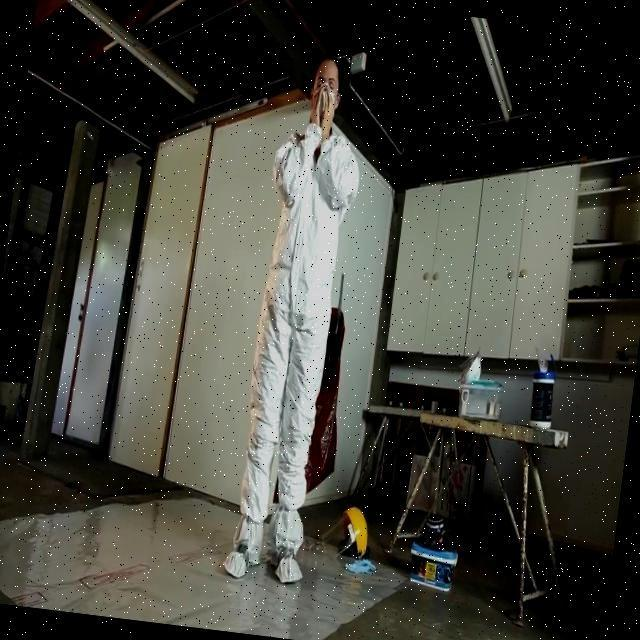no_apron: (306, 85, 339, 132)
